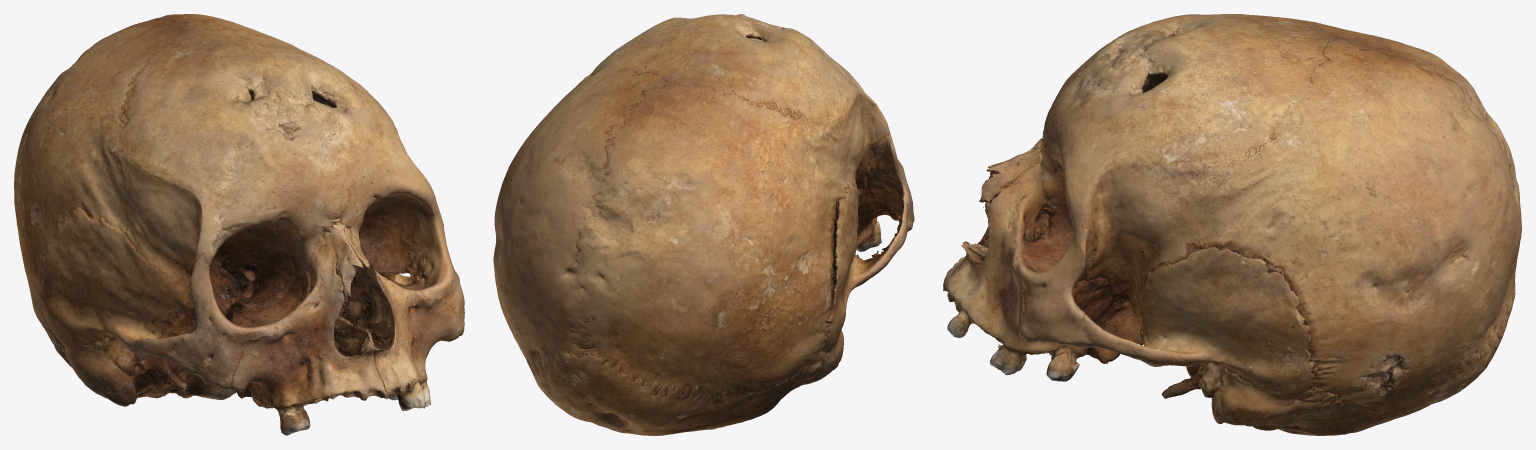
The model's file is syphilis-skull.glb.
3 renders of one model, left to right at view 1: azimuth 30°, elevation 25°; view 2: azimuth 150°, elevation 25°; view 3: azimuth 270°, elevation 25°, orthographic. The views are drawn at different scales.
Parts seen in each view (by area): view 1: Object_6, Object_3, Object_11, Object_7, Object_8, Object_4, Object_9, Object_12, Object_2; view 2: Object_6, Object_2, Object_8, Object_7, Object_9, Object_3, Object_11, Object_12, Object_4; view 3: Object_2, Object_3, Object_6, Object_4, Object_5, Object_8, Object_12, Object_7, Object_9, Object_11.
Part boxes in pixels (x1,y1,x2,y2): Object_6: [14, 14, 412, 367]; Object_3: [200, 37, 464, 408]; Object_11: [76, 221, 435, 433]; Object_7: [27, 51, 445, 435]; Object_8: [14, 14, 444, 431]; Object_4: [146, 54, 464, 408]; Object_9: [69, 226, 441, 410]; Object_12: [143, 222, 450, 432]; Object_2: [66, 39, 408, 304]; Object_6: [551, 14, 876, 430]; Object_2: [493, 14, 801, 435]; Object_8: [554, 22, 901, 429]; Object_7: [674, 16, 881, 245]; Object_9: [703, 106, 899, 429]; Object_3: [494, 15, 888, 434]; Object_11: [740, 146, 914, 365]; Object_12: [828, 141, 913, 284]; Object_4: [584, 14, 898, 297]; Object_2: [1042, 42, 1521, 435]; Object_3: [1017, 31, 1470, 433]; Object_6: [1099, 14, 1519, 383]; Object_4: [943, 31, 1335, 425]; Object_5: [1219, 96, 1394, 435]; Object_8: [1048, 14, 1461, 407]; Object_12: [947, 138, 1196, 374]; Object_7: [946, 14, 1377, 381]; Object_9: [945, 121, 1388, 412]; Object_11: [961, 139, 1240, 375].
Size of the model in its own units: 2.56 by 2.61 by 3.66.
4 materials, 4 textured.
